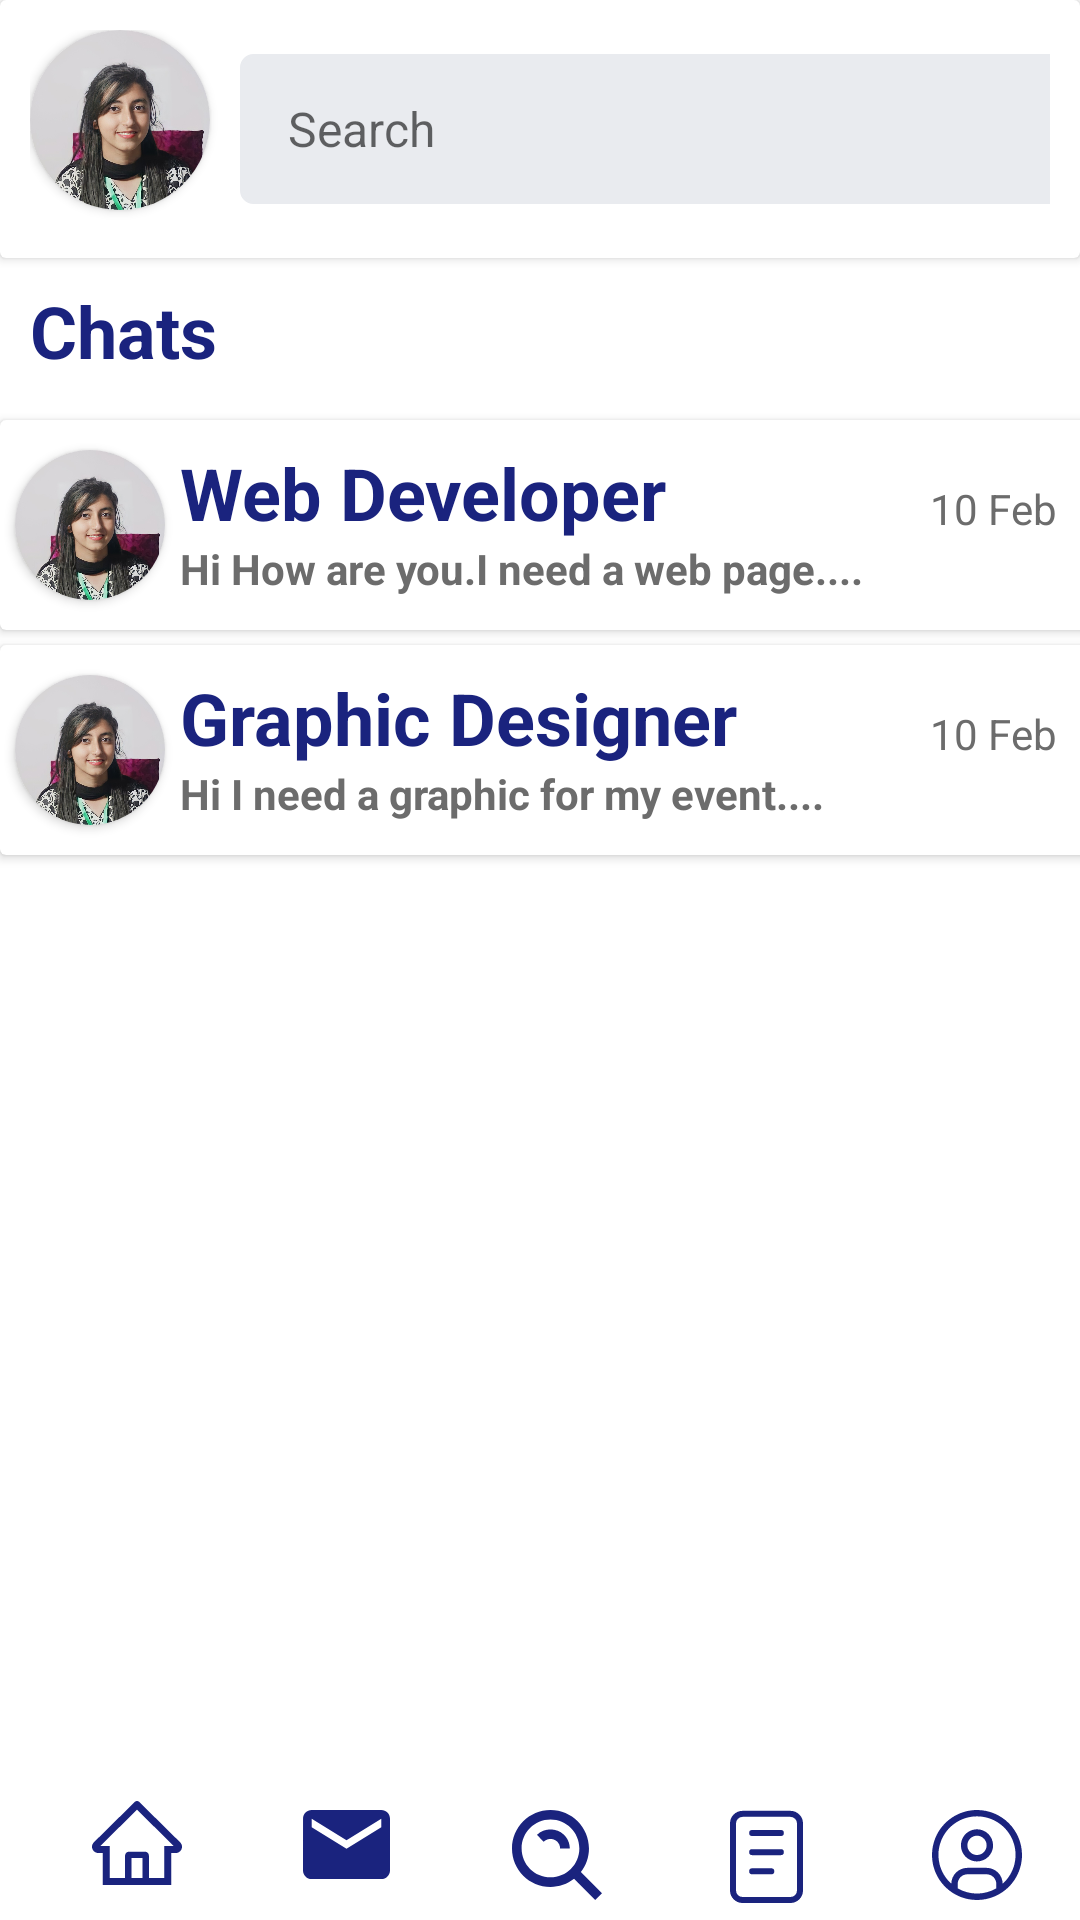

Where to tap for icons on this 1080px×1920px app screen, as (x,y):
home: (137,1843)
message: (346,1844)
order: (766,1856)
profile: (977,1855)
searchh: (557,1855)
